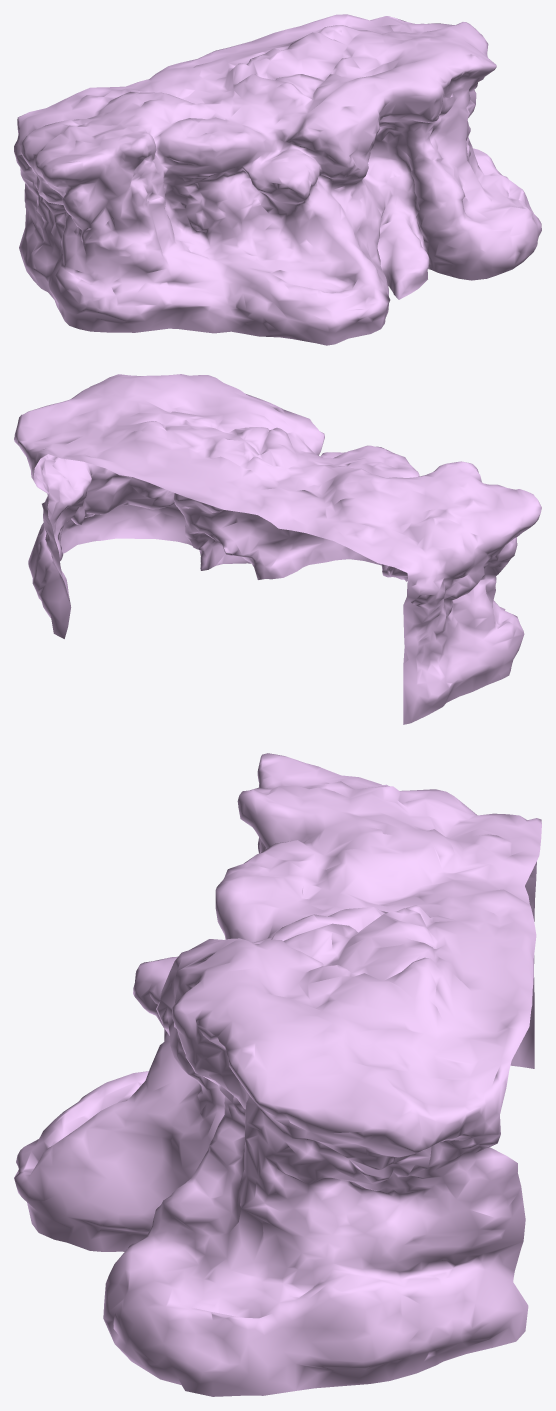
Rendered from lava_wall_02.FBX.
The picture shows the model from 3 angles, top to bottom: view 1: azimuth 30°, elevation 25°; view 2: azimuth 150°, elevation 25°; view 3: azimuth 270°, elevation 25°; orthographic projection. The views are drawn at different scales.
Parts seen in each view (by area): view 1: lava_wall_02_LOD0; view 2: lava_wall_02_LOD0; view 3: lava_wall_02_LOD0.
Boxes of the visible parts, x1=… form: lava_wall_02_LOD0: x1=14, y1=14, x2=541, y2=345; lava_wall_02_LOD0: x1=14, y1=374, x2=541, y2=724; lava_wall_02_LOD0: x1=14, y1=753, x2=541, y2=1396.
Size of what is drawn, in the model's own units: 673 by 272 by 399.
